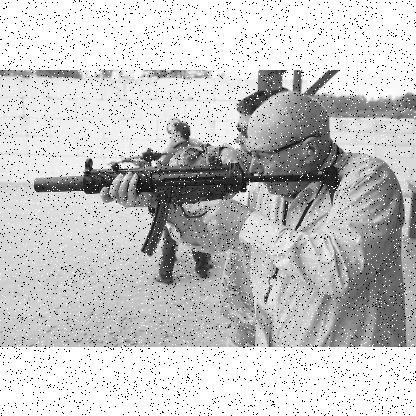gun: (31, 157, 337, 255)
